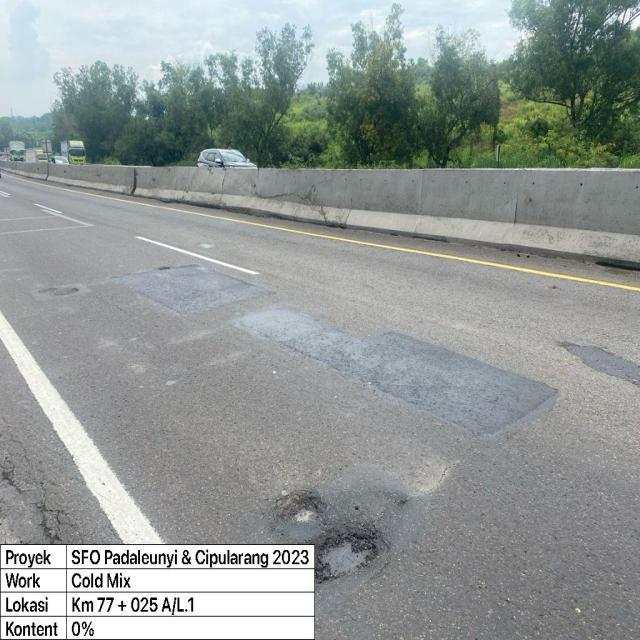Buraco: (314, 526, 384, 586), (272, 488, 329, 526)
